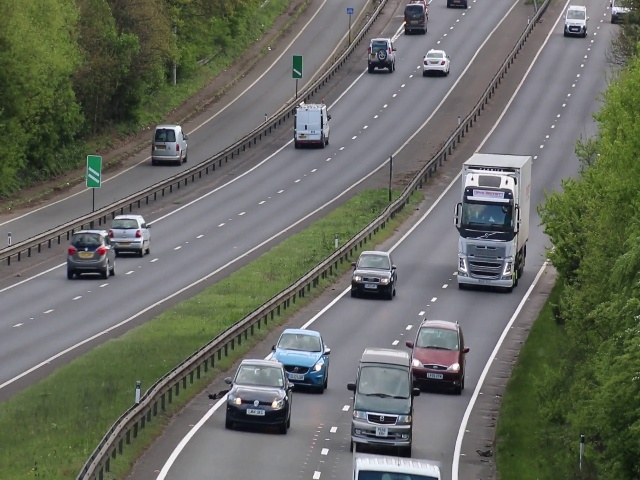car: (351, 348, 413, 455), (459, 186, 519, 291), (227, 360, 292, 436), (410, 316, 467, 393), (278, 328, 328, 393), (63, 228, 118, 279), (351, 251, 397, 299), (109, 212, 151, 256), (293, 101, 331, 148), (150, 122, 189, 165), (367, 37, 397, 74), (403, 3, 429, 37), (423, 47, 450, 75), (564, 6, 588, 37)
